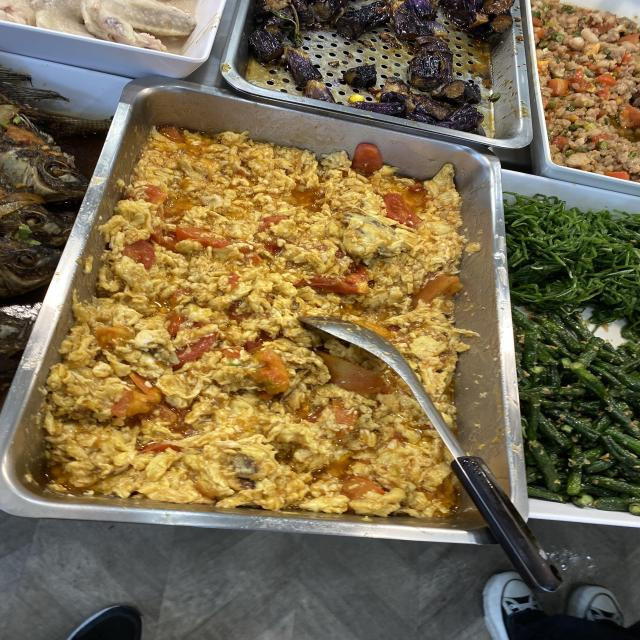Scramble Egg with Tomatoes: (148, 175, 422, 308)
